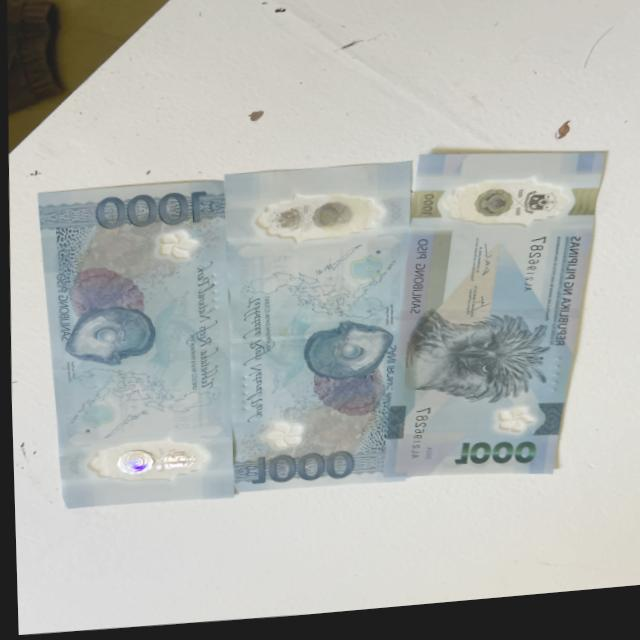clear_window: (242, 189, 388, 255), (75, 431, 216, 492), (440, 184, 573, 248)
eagle: (397, 306, 553, 415)
sampaguita: (253, 420, 303, 459), (488, 411, 537, 447), (154, 230, 199, 266)
serial_number: (508, 242, 552, 306), (399, 399, 432, 476)
value: (450, 443, 539, 477)
